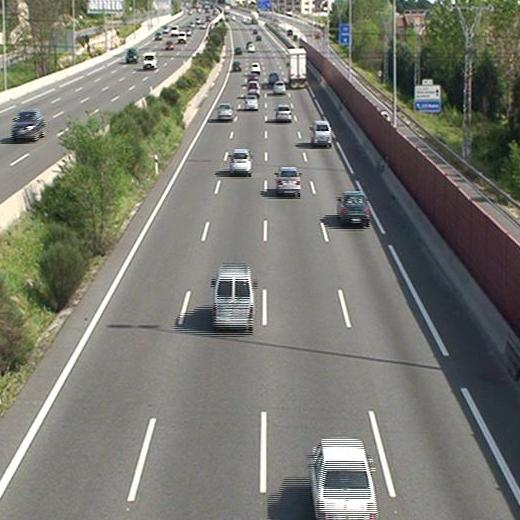car: (313, 442, 377, 520), (338, 192, 371, 226), (275, 167, 301, 192), (229, 150, 252, 174), (312, 121, 331, 144), (217, 103, 234, 121), (276, 104, 292, 121), (244, 95, 258, 109), (273, 80, 285, 94), (250, 62, 260, 73), (232, 61, 240, 71)
truck: (287, 48, 307, 89)
van: (214, 266, 254, 327)
